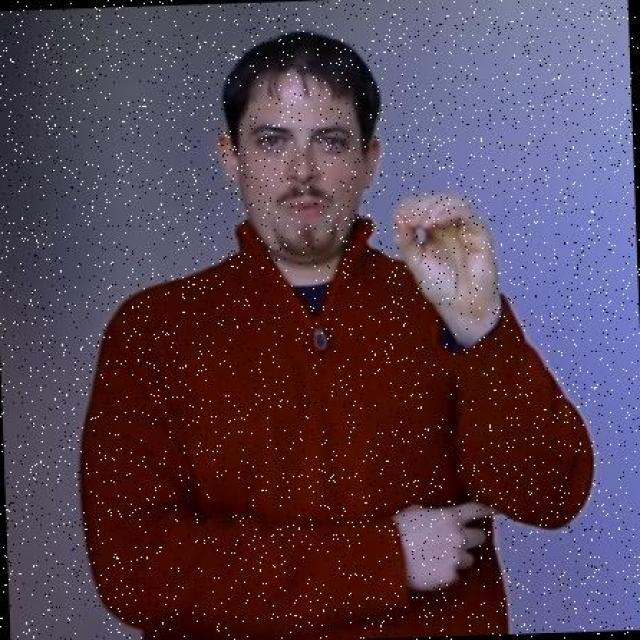O: (388, 189, 507, 324)
